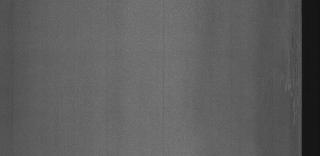silk spot: (276, 58, 298, 125)
